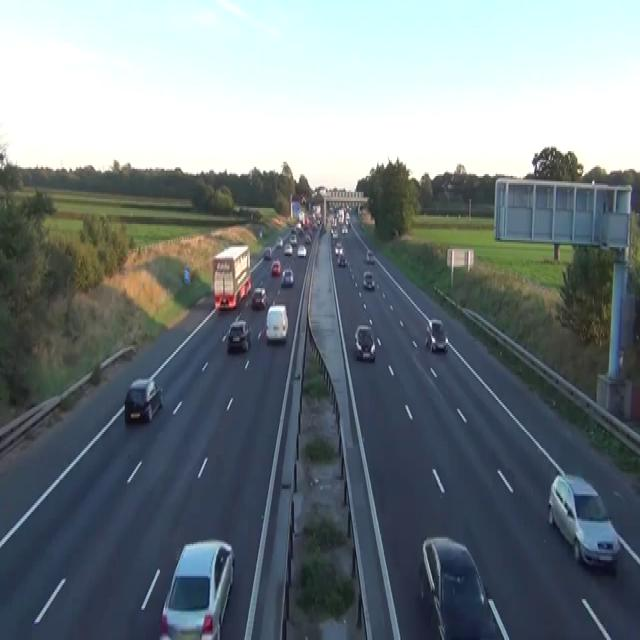Car: (419, 535, 509, 638), (159, 539, 235, 638), (547, 473, 620, 569), (124, 377, 162, 423), (265, 304, 288, 341), (226, 318, 251, 352), (354, 323, 375, 361), (425, 318, 448, 352), (251, 286, 267, 310), (362, 270, 374, 290), (281, 268, 293, 286), (270, 258, 281, 276), (243, 276, 251, 295), (365, 249, 374, 263), (297, 244, 306, 258), (334, 242, 343, 256), (337, 252, 346, 266), (183, 266, 190, 284), (264, 246, 272, 260), (289, 233, 297, 245), (283, 244, 292, 254), (275, 237, 283, 247), (304, 233, 311, 243), (297, 226, 304, 236), (332, 231, 339, 238), (300, 196, 306, 204), (321, 224, 326, 233), (316, 217, 321, 226), (345, 217, 350, 226), (341, 226, 347, 233), (330, 226, 334, 236), (329, 204, 334, 212), (360, 222, 364, 230), (259, 230, 262, 238)
Truck: (211, 244, 251, 311)
